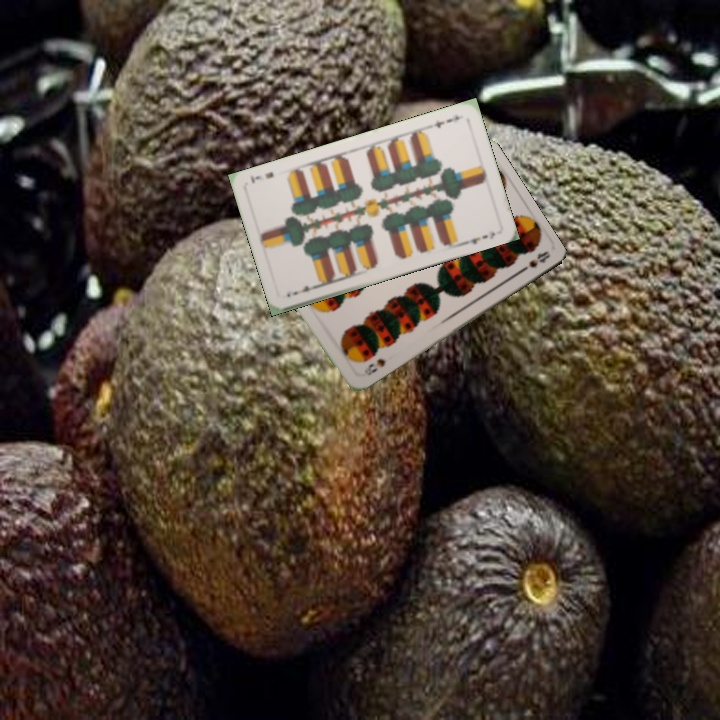E7: (430, 110, 462, 131), (289, 280, 321, 298)
S8: (360, 354, 388, 378)
